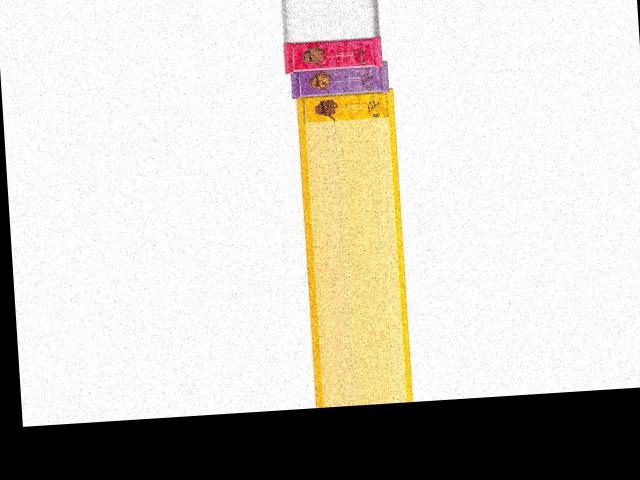chocolate: (276, 34, 387, 73)
